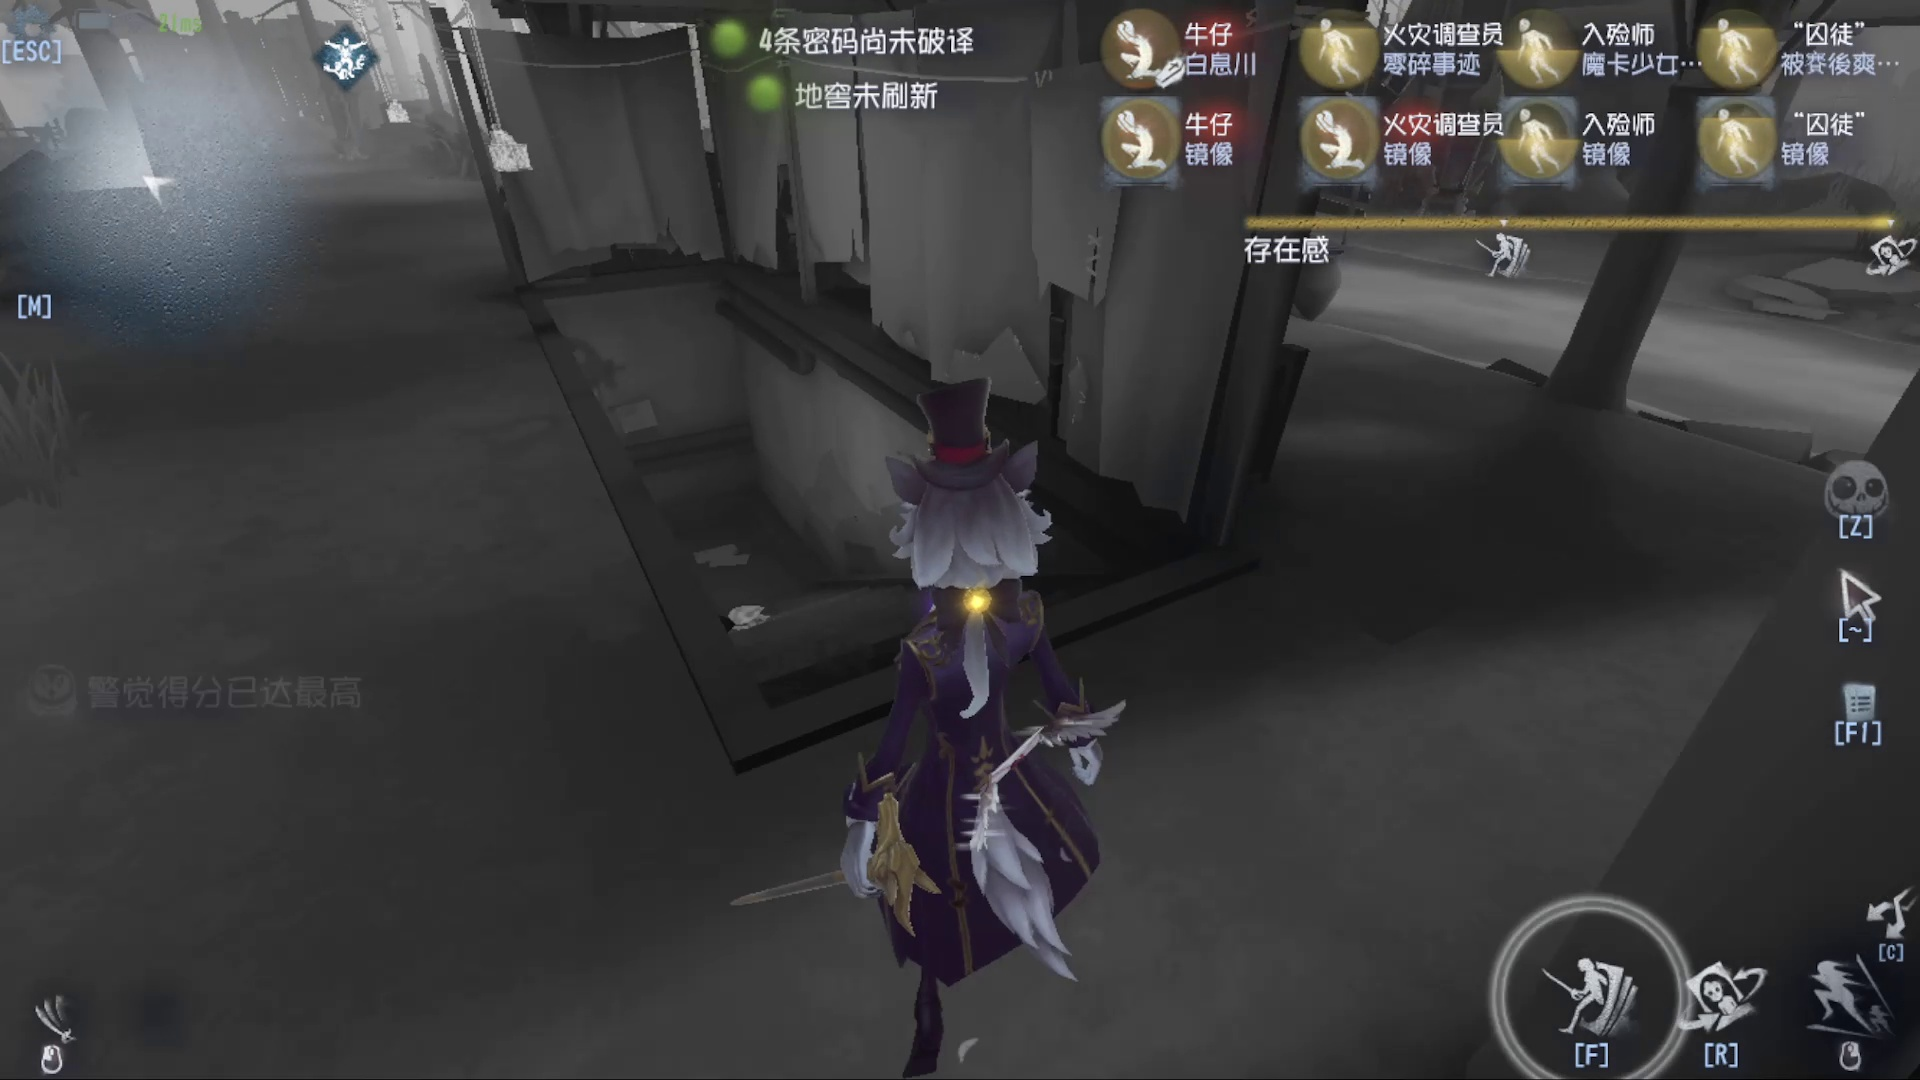密码机: (434, 1, 551, 191)
